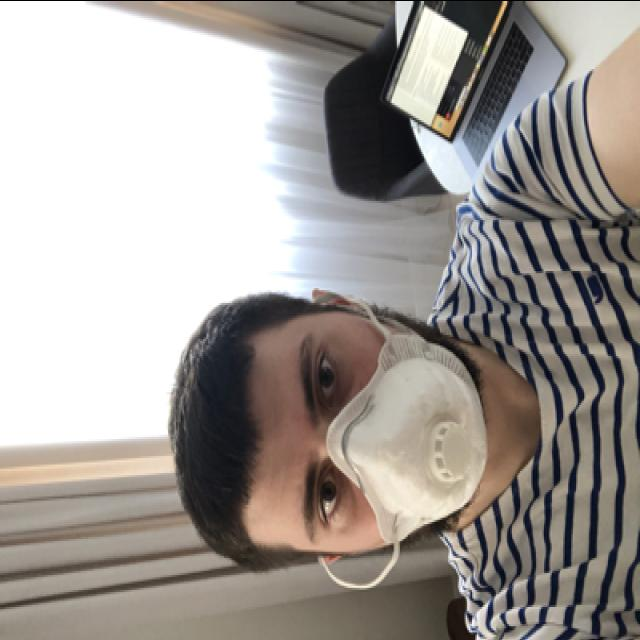with_mask: (280, 321, 485, 553)
